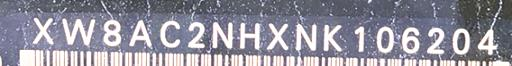letter: (60, 16, 98, 45), (28, 16, 60, 45), (124, 17, 154, 47), (263, 19, 291, 50), (293, 21, 321, 51), (422, 22, 448, 53), (98, 16, 124, 46), (156, 18, 182, 48), (210, 19, 236, 49), (397, 23, 423, 53), (449, 23, 473, 55), (473, 25, 499, 54), (238, 19, 262, 50), (372, 24, 398, 52), (184, 19, 206, 49), (349, 22, 371, 51), (322, 23, 344, 51)
